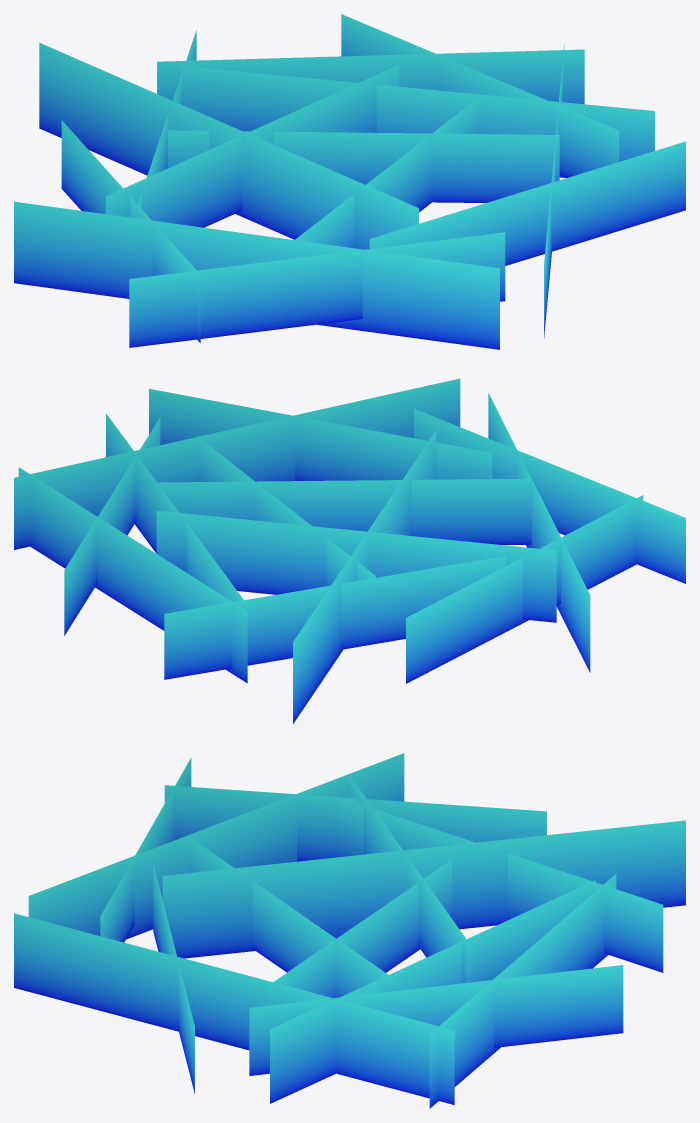
The model's file is SM_Env_Grass_Short_Clump_03.FBX.
3 renders of one model, top to bottom at view 1: azimuth 30°, elevation 25°; view 2: azimuth 150°, elevation 25°; view 3: azimuth 270°, elevation 25°, orthographic. The views are drawn at different scales.
Visible parts, largest first — view 1: SM_Env_Grass_Short_Clump_03; view 2: SM_Env_Grass_Short_Clump_03; view 3: SM_Env_Grass_Short_Clump_03.
Boxes of the visible parts, <box> form: SM_Env_Grass_Short_Clump_03: <box>14,14,685,349</box>; SM_Env_Grass_Short_Clump_03: <box>14,378,685,723</box>; SM_Env_Grass_Short_Clump_03: <box>14,753,685,1108</box>.
Size of the model in its own units: 172 by 173 by 26.84.
